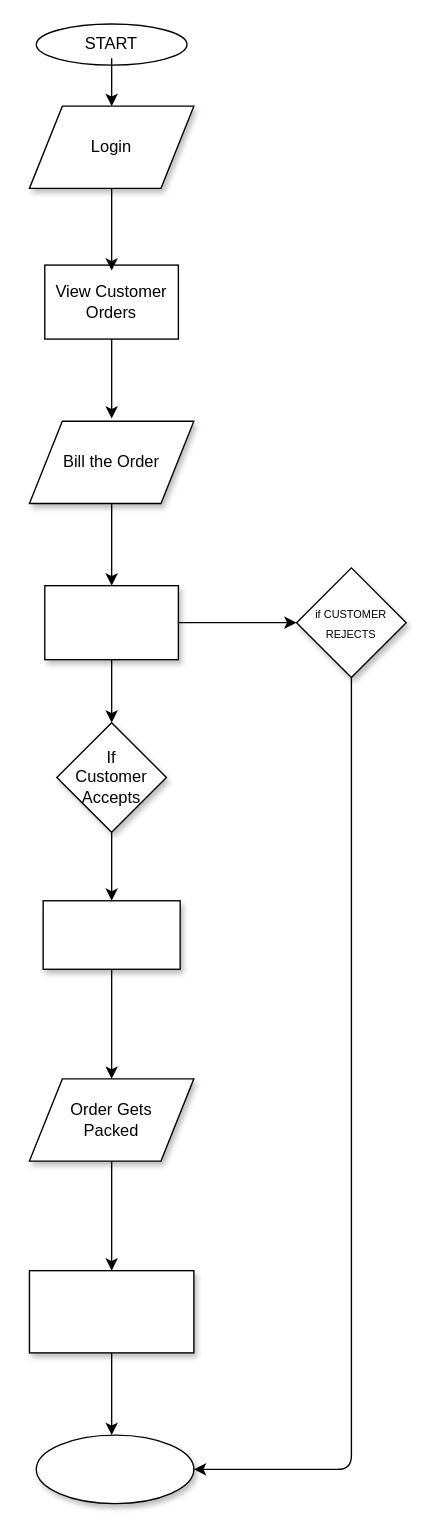
Some shapes in this 438 by 1537 pixel diagram are drawn without their labels. Here are the shapes that lost their labels. From the top down, the centre of each, then its label:
At (112,624): "Bill Sent to Customer".
At (112,936): "TOKEN IS GENERATED".
At (112,1313): "Ready For Delivery Message sent to Customer".
At (115,1470): "EXIT".
